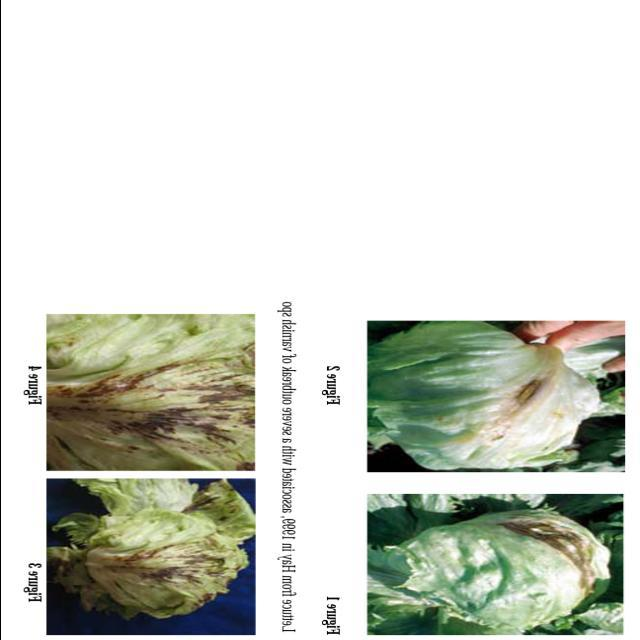Lettuce: (367, 325, 601, 473), (48, 312, 255, 468), (58, 479, 248, 622), (383, 503, 607, 624)
